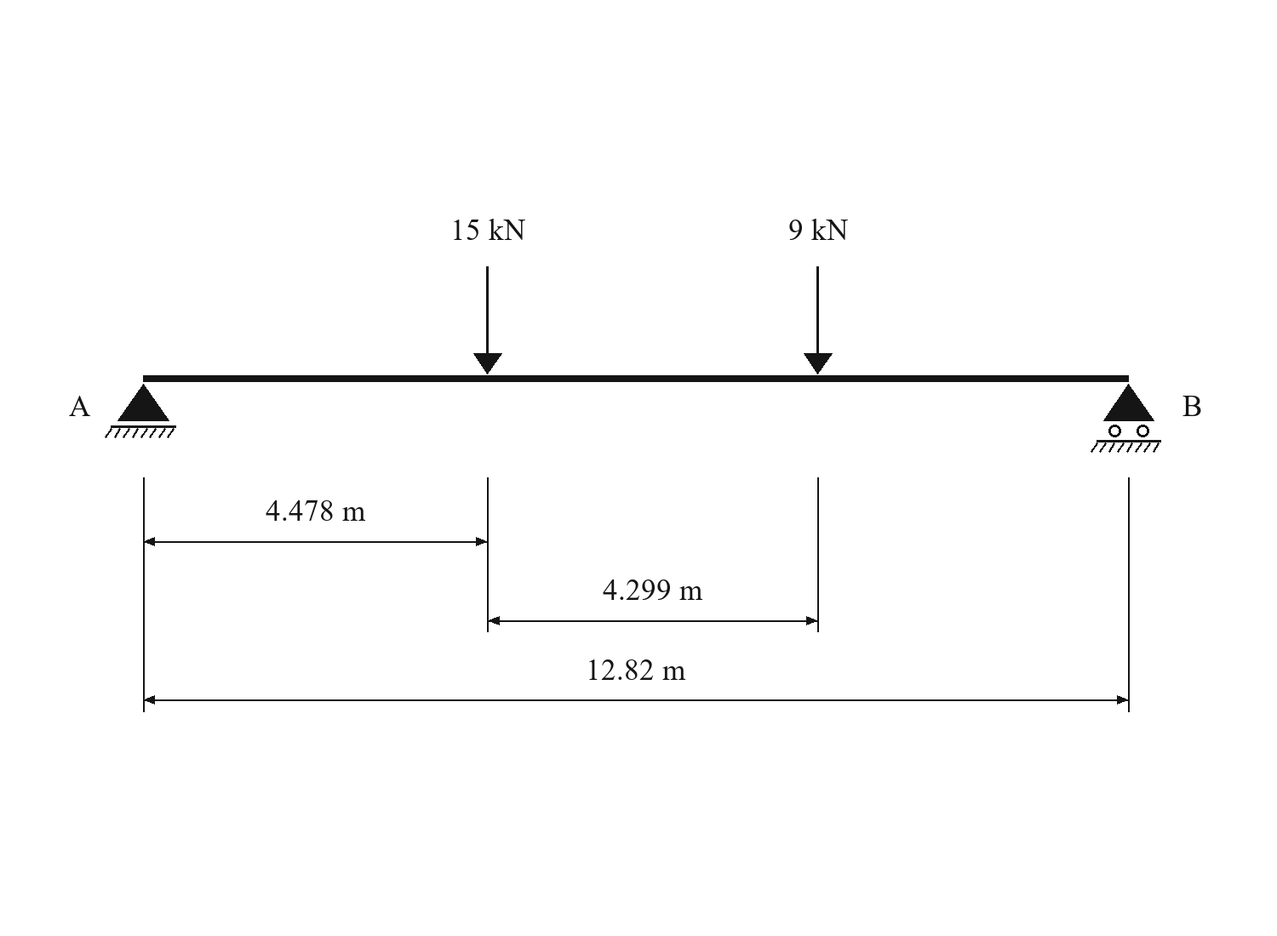pin_support: (105, 384, 176, 438)
point_load: (473, 266, 502, 374), (804, 266, 833, 374)
roller_support: (1091, 384, 1161, 453)
